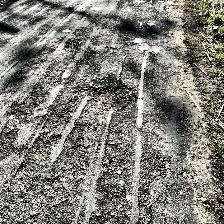pothole: (79, 77, 137, 113)
